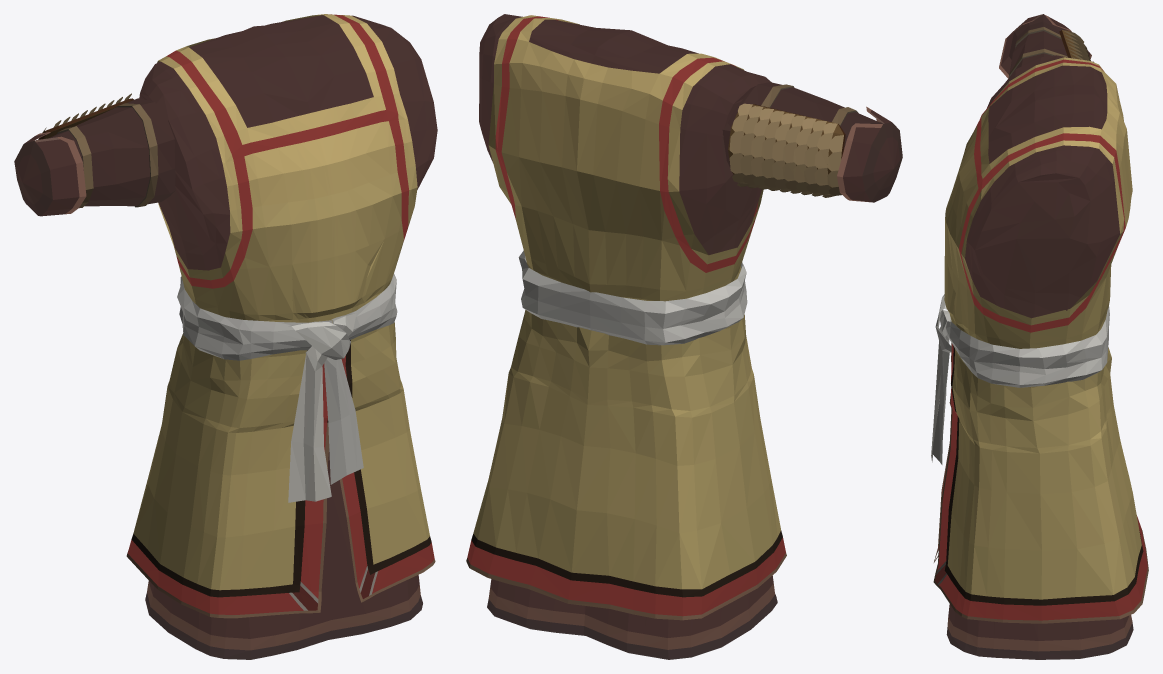
File: saracenWarrior.glb
3 views of the same model, side by side, from view 1: azimuth 30°, elevation 25°; view 2: azimuth 150°, elevation 25°; view 3: azimuth 270°, elevation 25° (orthographic). The views are drawn at different scales.
Parts seen in each view (by area): view 1: saracenWarriorBody, saracenWarriorUpperArm; view 2: saracenWarriorBody, saracenWarriorUpperArm; view 3: saracenWarriorBody, saracenWarriorUpperArm.
Boxes of the visible parts, left/top/right/bottom form: saracenWarriorBody: left=126, top=14, right=437, bottom=659; saracenWarriorUpperArm: left=14, top=93, right=176, bottom=216; saracenWarriorBody: left=466, top=14, right=786, bottom=659; saracenWarriorUpperArm: left=722, top=82, right=902, bottom=202; saracenWarriorBody: left=931, top=55, right=1148, bottom=659; saracenWarriorUpperArm: left=999, top=14, right=1091, bottom=78.
Bounding box in the file's own units: 0.8129 × 1.13 × 0.4305.
